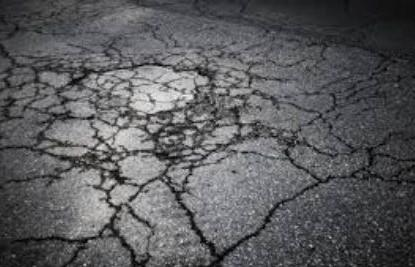alligator-crack: (0, 24, 415, 267)
